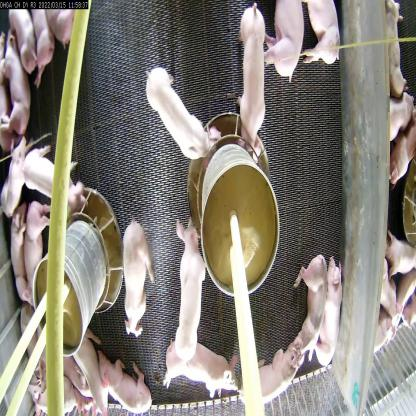Pig: (145, 57, 220, 160), (172, 204, 212, 370), (163, 327, 238, 409), (237, 0, 277, 150), (22, 145, 94, 221), (119, 212, 158, 345), (97, 339, 157, 416), (0, 24, 33, 148), (70, 323, 113, 415), (261, 0, 307, 86), (310, 250, 342, 372), (24, 195, 60, 298), (292, 250, 323, 369), (10, 198, 39, 312), (302, 0, 346, 72), (0, 130, 34, 222)
